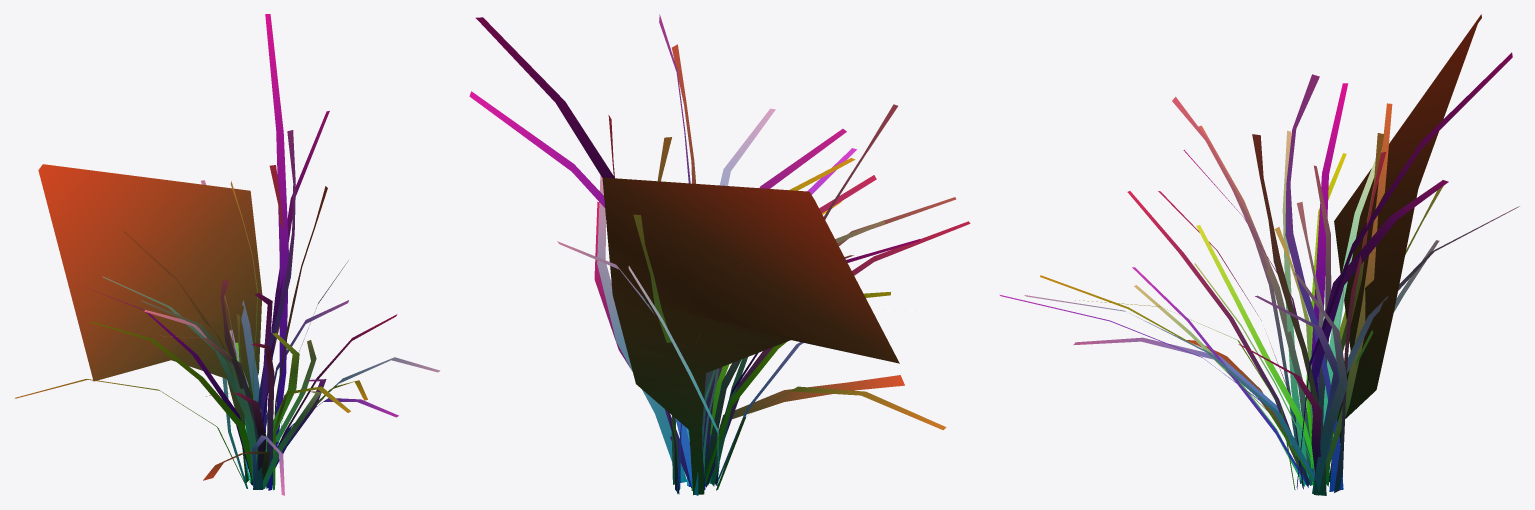
File: Wild_Grass_sjliZ_Mid_sjliZ_VarC_LOD0.fbx
3 views of the same model, side by side, from view 1: azimuth 30°, elevation 25°; view 2: azimuth 150°, elevation 25°; view 3: azimuth 270°, elevation 25° (orthographic). The views are drawn at different scales.
Visible parts, largest first — view 1: _eb73_VarC_LOD1; view 2: _eb73_VarC_LOD1; view 3: _eb73_VarC_LOD1.
Boxes of the visible parts, bbox=[...] form: _eb73_VarC_LOD1: bbox=[15, 14, 440, 495]; _eb73_VarC_LOD1: bbox=[469, 14, 970, 495]; _eb73_VarC_LOD1: bbox=[999, 14, 1519, 495].
Bounding box in the file's own units: 58.3 × 64.92 × 63.13.
